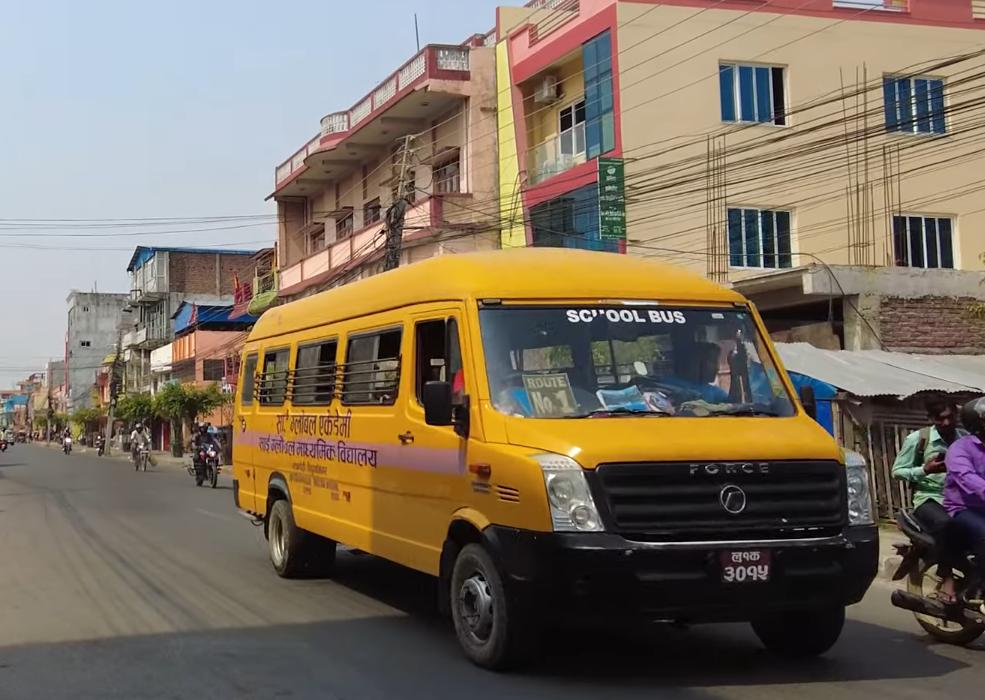bike: (891, 499, 985, 660), (184, 438, 222, 489), (129, 434, 159, 474)
school_bus: (224, 237, 886, 693)
